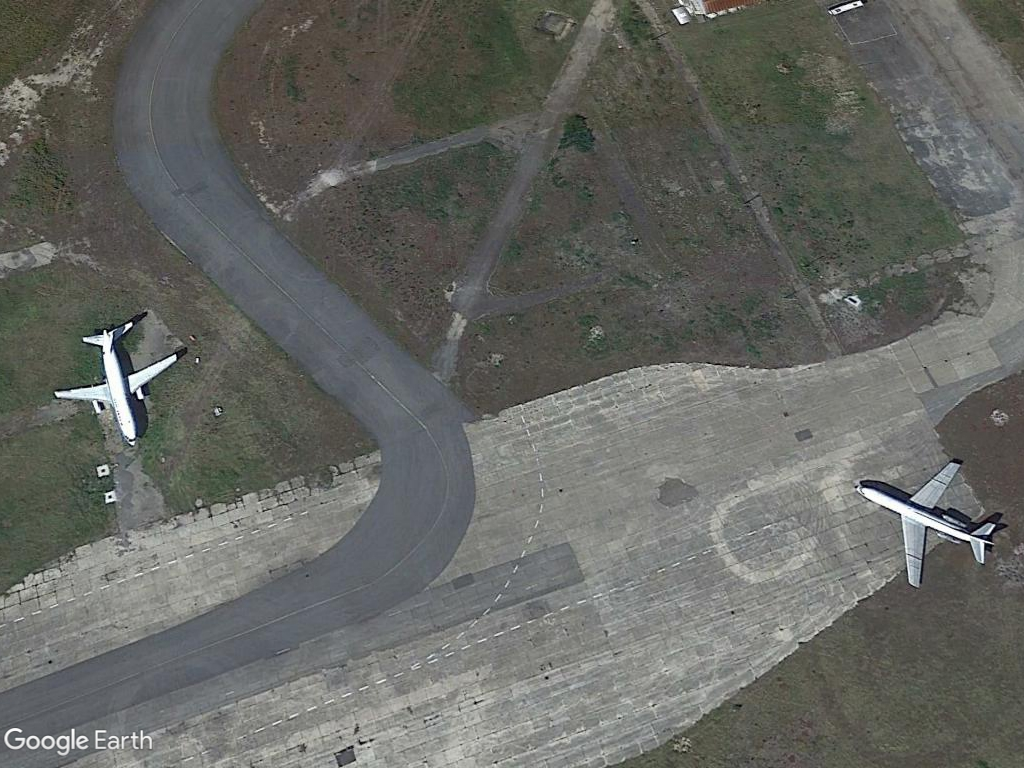airliner: (848, 454, 1006, 596), (46, 323, 181, 449)
